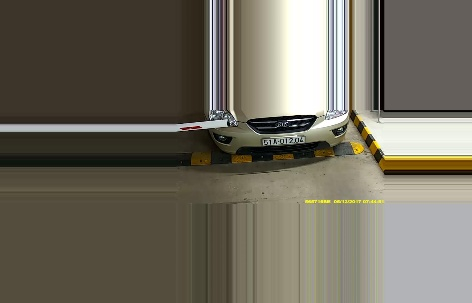plate: (260, 135, 308, 144)
